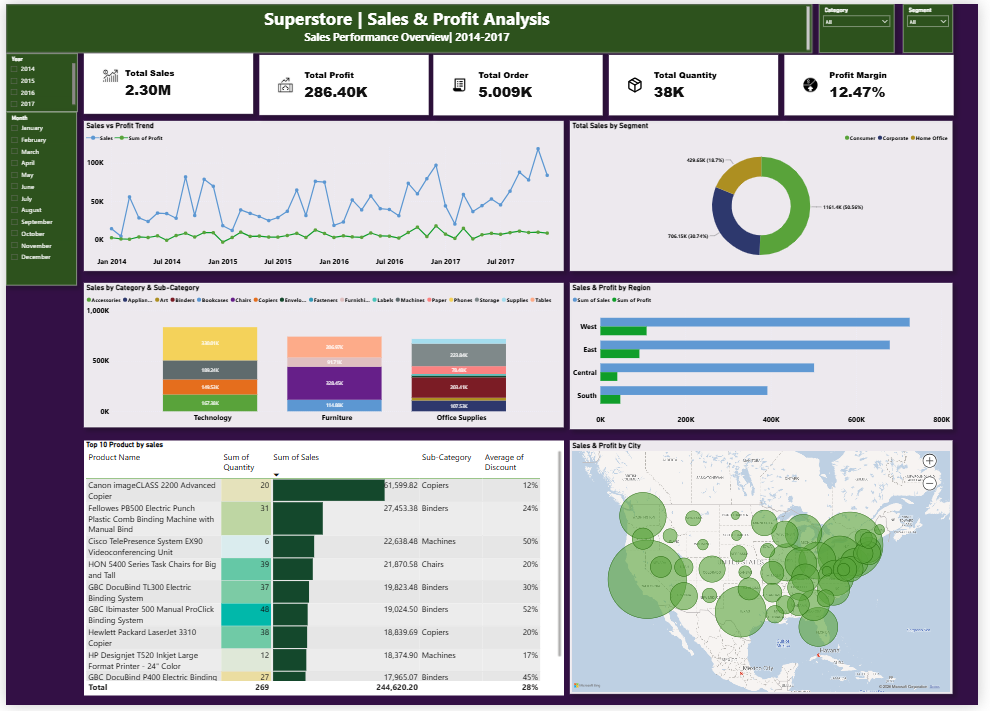

The page's visual inventory and layout, read from the dashboard file:
{"tool":"powerbi","page":{"name":"Superstore Sales Performance","canvas":[2400,1730],"ordinal":0},"visuals":[{"type":"textbox","box":[0,0,1990.7,120.9],"z":0},{"type":"slicer","fields":{"Values":["Sample - Superstore.Order Date.Variation.Date Hierarchy.Year"]},"box":[0,120.9,176.7,144.2],"z":1000},{"type":"slicer","fields":{"Values":["Sample - Superstore.Order Date.Variation.Date Hierarchy.Month"]},"box":[0,265.1,174.4,427.9],"z":2000},{"type":"lineChart","title":" Sales vs Profit Trend","fields":{"Category":["Sample - Superstore.Order Date.Variation.Date Hierarchy.Year","Sample - Superstore.Order Date.Variation.Date Hierarchy.Month"],"Y":["Sum(Sample - Superstore.Sales)","Sum(Sample - Superstore.Profit)"]},"box":[193,288.4,1183.7,369.8],"z":3000},{"type":"slicer","fields":{"Values":["Sample - Superstore.Category"]},"box":[2007,0,186,120.9],"z":4000},{"type":"slicer","fields":{"Values":["Sample - Superstore.Segment"]},"box":[2214,0,123.3,120.9],"z":5000},{"type":"clusteredBarChart","title":"Sales & Profit by Region","fields":{"Category":["Sample - Superstore.Region"],"Y":["Sum(Sample - Superstore.Sales)","Sum(Sample - Superstore.Profit)"]},"box":[1393,688.4,944.2,360.5],"z":6000},{"type":"donutChart","title":"Total Sales by Segment","fields":{"Category":["Sample - Superstore.Segment"],"Y":["Sum(Sample - Superstore.Sales)"]},"box":[1393,288.4,944.2,369.8],"z":7000},{"type":"map","title":"Sales & Profit by City","fields":{"Category":["Sample - Superstore.State"],"Size":["Sum(Sample - Superstore.Sales)"]},"box":[1393,1076.7,944.2,625.6],"z":8000},{"type":"columnChart","title":" Sales by Category & Sub-Category","fields":{"Category":["Sample - Superstore.Category"],"Y":["Sum(Sample - Superstore.Sales)"],"Series":["Sample - Superstore.Sub-Category"]},"box":[193,688.4,1183.7,355.8],"z":9000},{"type":"cardVisual","fields":{"Data":["Sum(Sample - Superstore.Sales)"]},"box":[193,123.3,417,148.8],"z":10000},{"type":"cardVisual","fields":{"Data":["Sum(Sample - Superstore.Profit)"]},"box":[625.6,125.6,417,148],"z":11000},{"type":"cardVisual","fields":{"Data":["Count(Sample - Superstore.Order ID)"]},"box":[1055.8,125.6,417,148.8],"z":12000},{"type":"cardVisual","fields":{"Data":["Sample - Superstore.Profit Margin"]},"box":[1920.9,125.6,417,148.8],"z":13000},{"type":"tableEx","title":"Top 10  Product by sales","fields":{"Values":["Sample - Superstore.Product Name","Sum(Sample - Superstore.Quantity)","Sum(Sample - Superstore.Sales)","Sample - Superstore.Sub-Category","Avg(Sample - Superstore.Discount)"]},"box":[193,1076.7,1183.7,627.9],"z":14000},{"type":"cardVisual","fields":{"Data":["Sum(Sample - Superstore.Quantity)"]},"box":[1488.4,125.6,417,148.8],"z":15000}]}

Visuals, with their boxes in screenshot pixels (x1, y1, x2, y2), scaled from the page's 2400x1730 canvas onto the 990x711 screenshot:
textbox: 0, 0, 821, 50
slicer - Sample - Superstore.Order Date.Variation.Date Hierarchy.Year: 0, 50, 73, 109
slicer - Sample - Superstore.Order Date.Variation.Date Hierarchy.Month: 0, 109, 72, 285
" Sales vs Profit Trend" lineChart: 80, 119, 568, 271
slicer - Sample - Superstore.Category: 828, 0, 905, 50
slicer - Sample - Superstore.Segment: 913, 0, 964, 50
"Sales & Profit by Region" clusteredBarChart: 575, 283, 964, 431
"Total Sales by Segment" donutChart: 575, 119, 964, 271
"Sales & Profit by City" map: 575, 443, 964, 700
" Sales by Category & Sub-Category" columnChart: 80, 283, 568, 429
cardVisual - Sum(Sample - Superstore.Sales): 80, 51, 252, 112
cardVisual - Sum(Sample - Superstore.Profit): 258, 52, 430, 112
cardVisual - Count(Sample - Superstore.Order ID): 436, 52, 608, 113
cardVisual - Sample - Superstore.Profit Margin: 792, 52, 964, 113
"Top 10  Product by sales" tableEx: 80, 443, 568, 701
cardVisual - Sum(Sample - Superstore.Quantity): 614, 52, 786, 113
